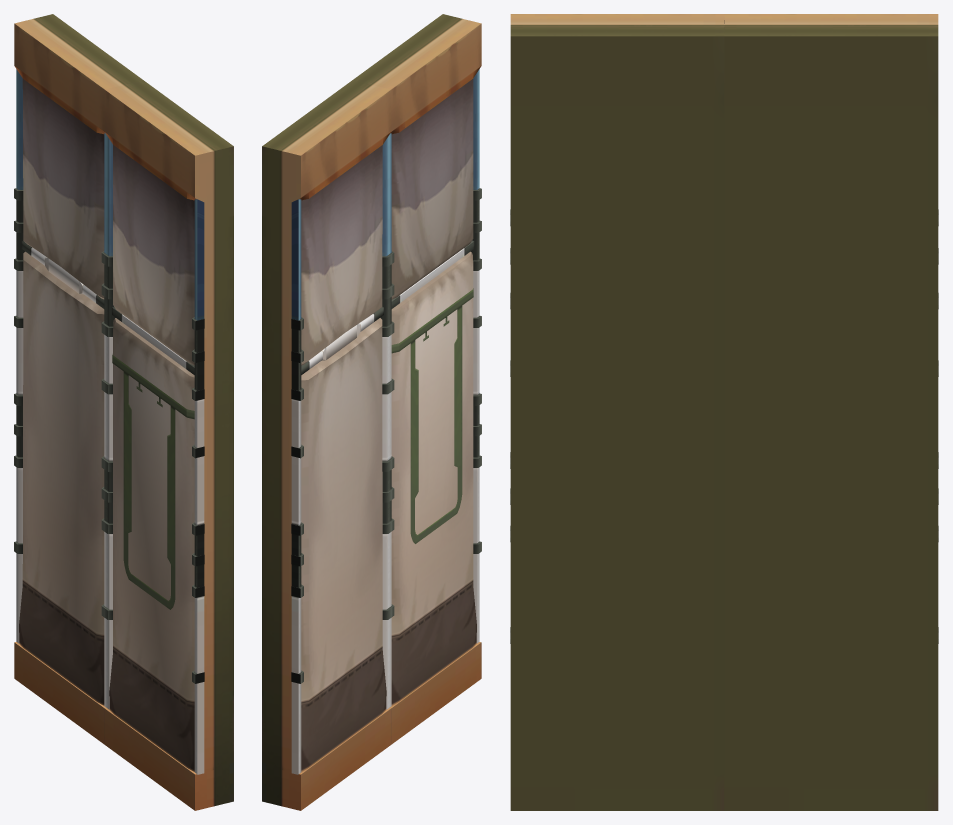
File: my_military_01_wall_right_1x2.glb
The picture shows the model from 3 angles, left to right: view 1: azimuth 30°, elevation 25°; view 2: azimuth 150°, elevation 25°; view 3: azimuth 270°, elevation 25°; orthographic projection. The views are drawn at different scales.
Visible parts, largest first — view 1: my_military_01_wall_right_02, my_military_01_wall_right_01; view 2: my_military_01_wall_right_01, my_military_01_wall_right_02; view 3: my_military_01_wall_right_01, my_military_01_wall_right_02.
Boxes of the visible parts, x1,y1,x2,y2 form: my_military_01_wall_right_02: (104,80,233,810); my_military_01_wall_right_01: (14,14,142,744); my_military_01_wall_right_01: (262,80,391,810); my_military_01_wall_right_02: (353,14,481,744); my_military_01_wall_right_01: (724,14,938,810); my_military_01_wall_right_02: (510,14,724,810).
Bounding box in the file's own units: 0.00298 × 0.048 × 0.0241.
1 material, 1 textured.
